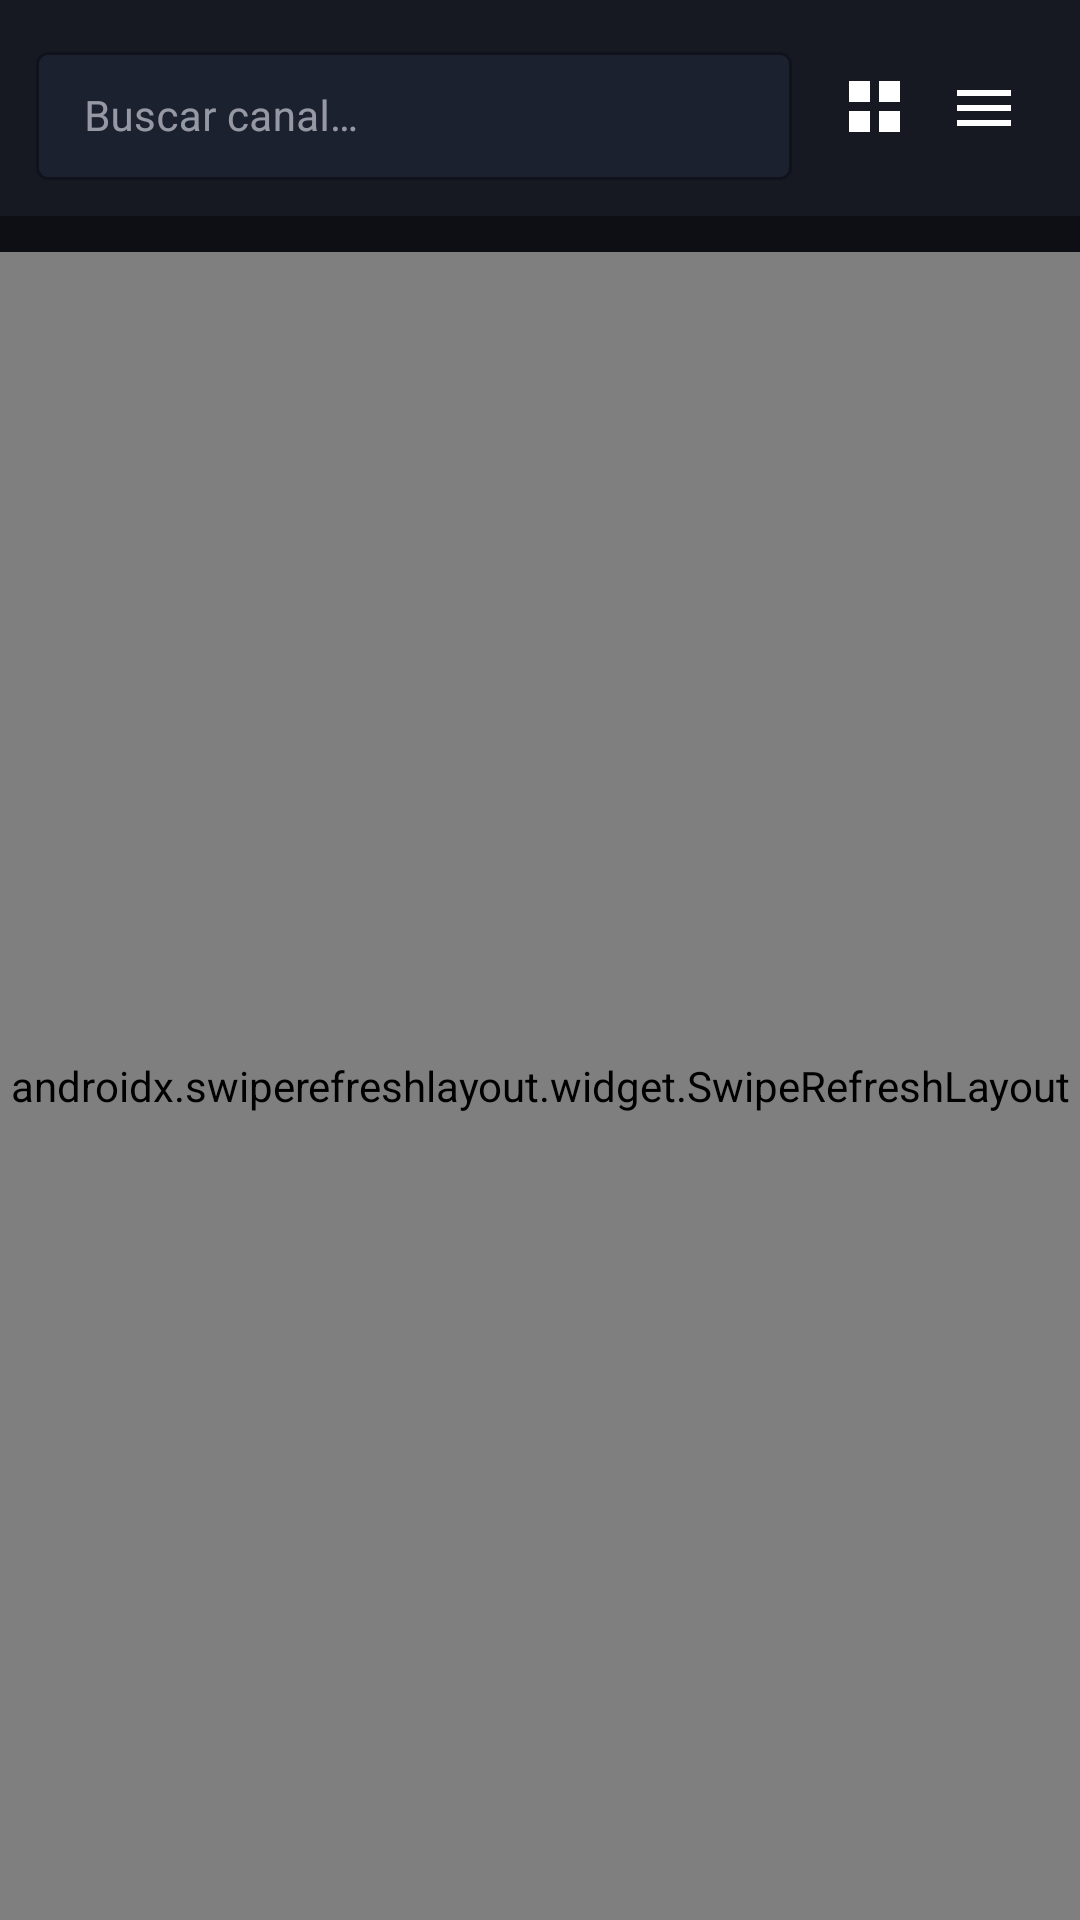

Named icons in this screenshot (1080px x 1920px) and their bounding boxes, (x1, y1, x2, y2):
Vista lista: (957, 90, 1011, 126)
Vista mosaico: (849, 81, 900, 132)
